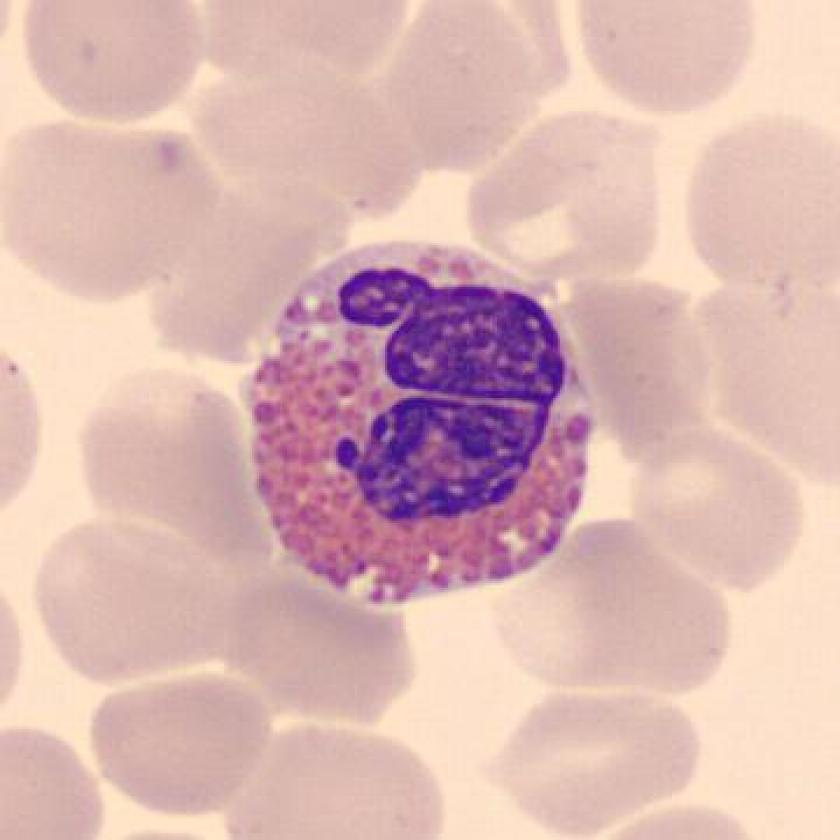eosinophil: (239, 230, 605, 617), (687, 454, 692, 457)
